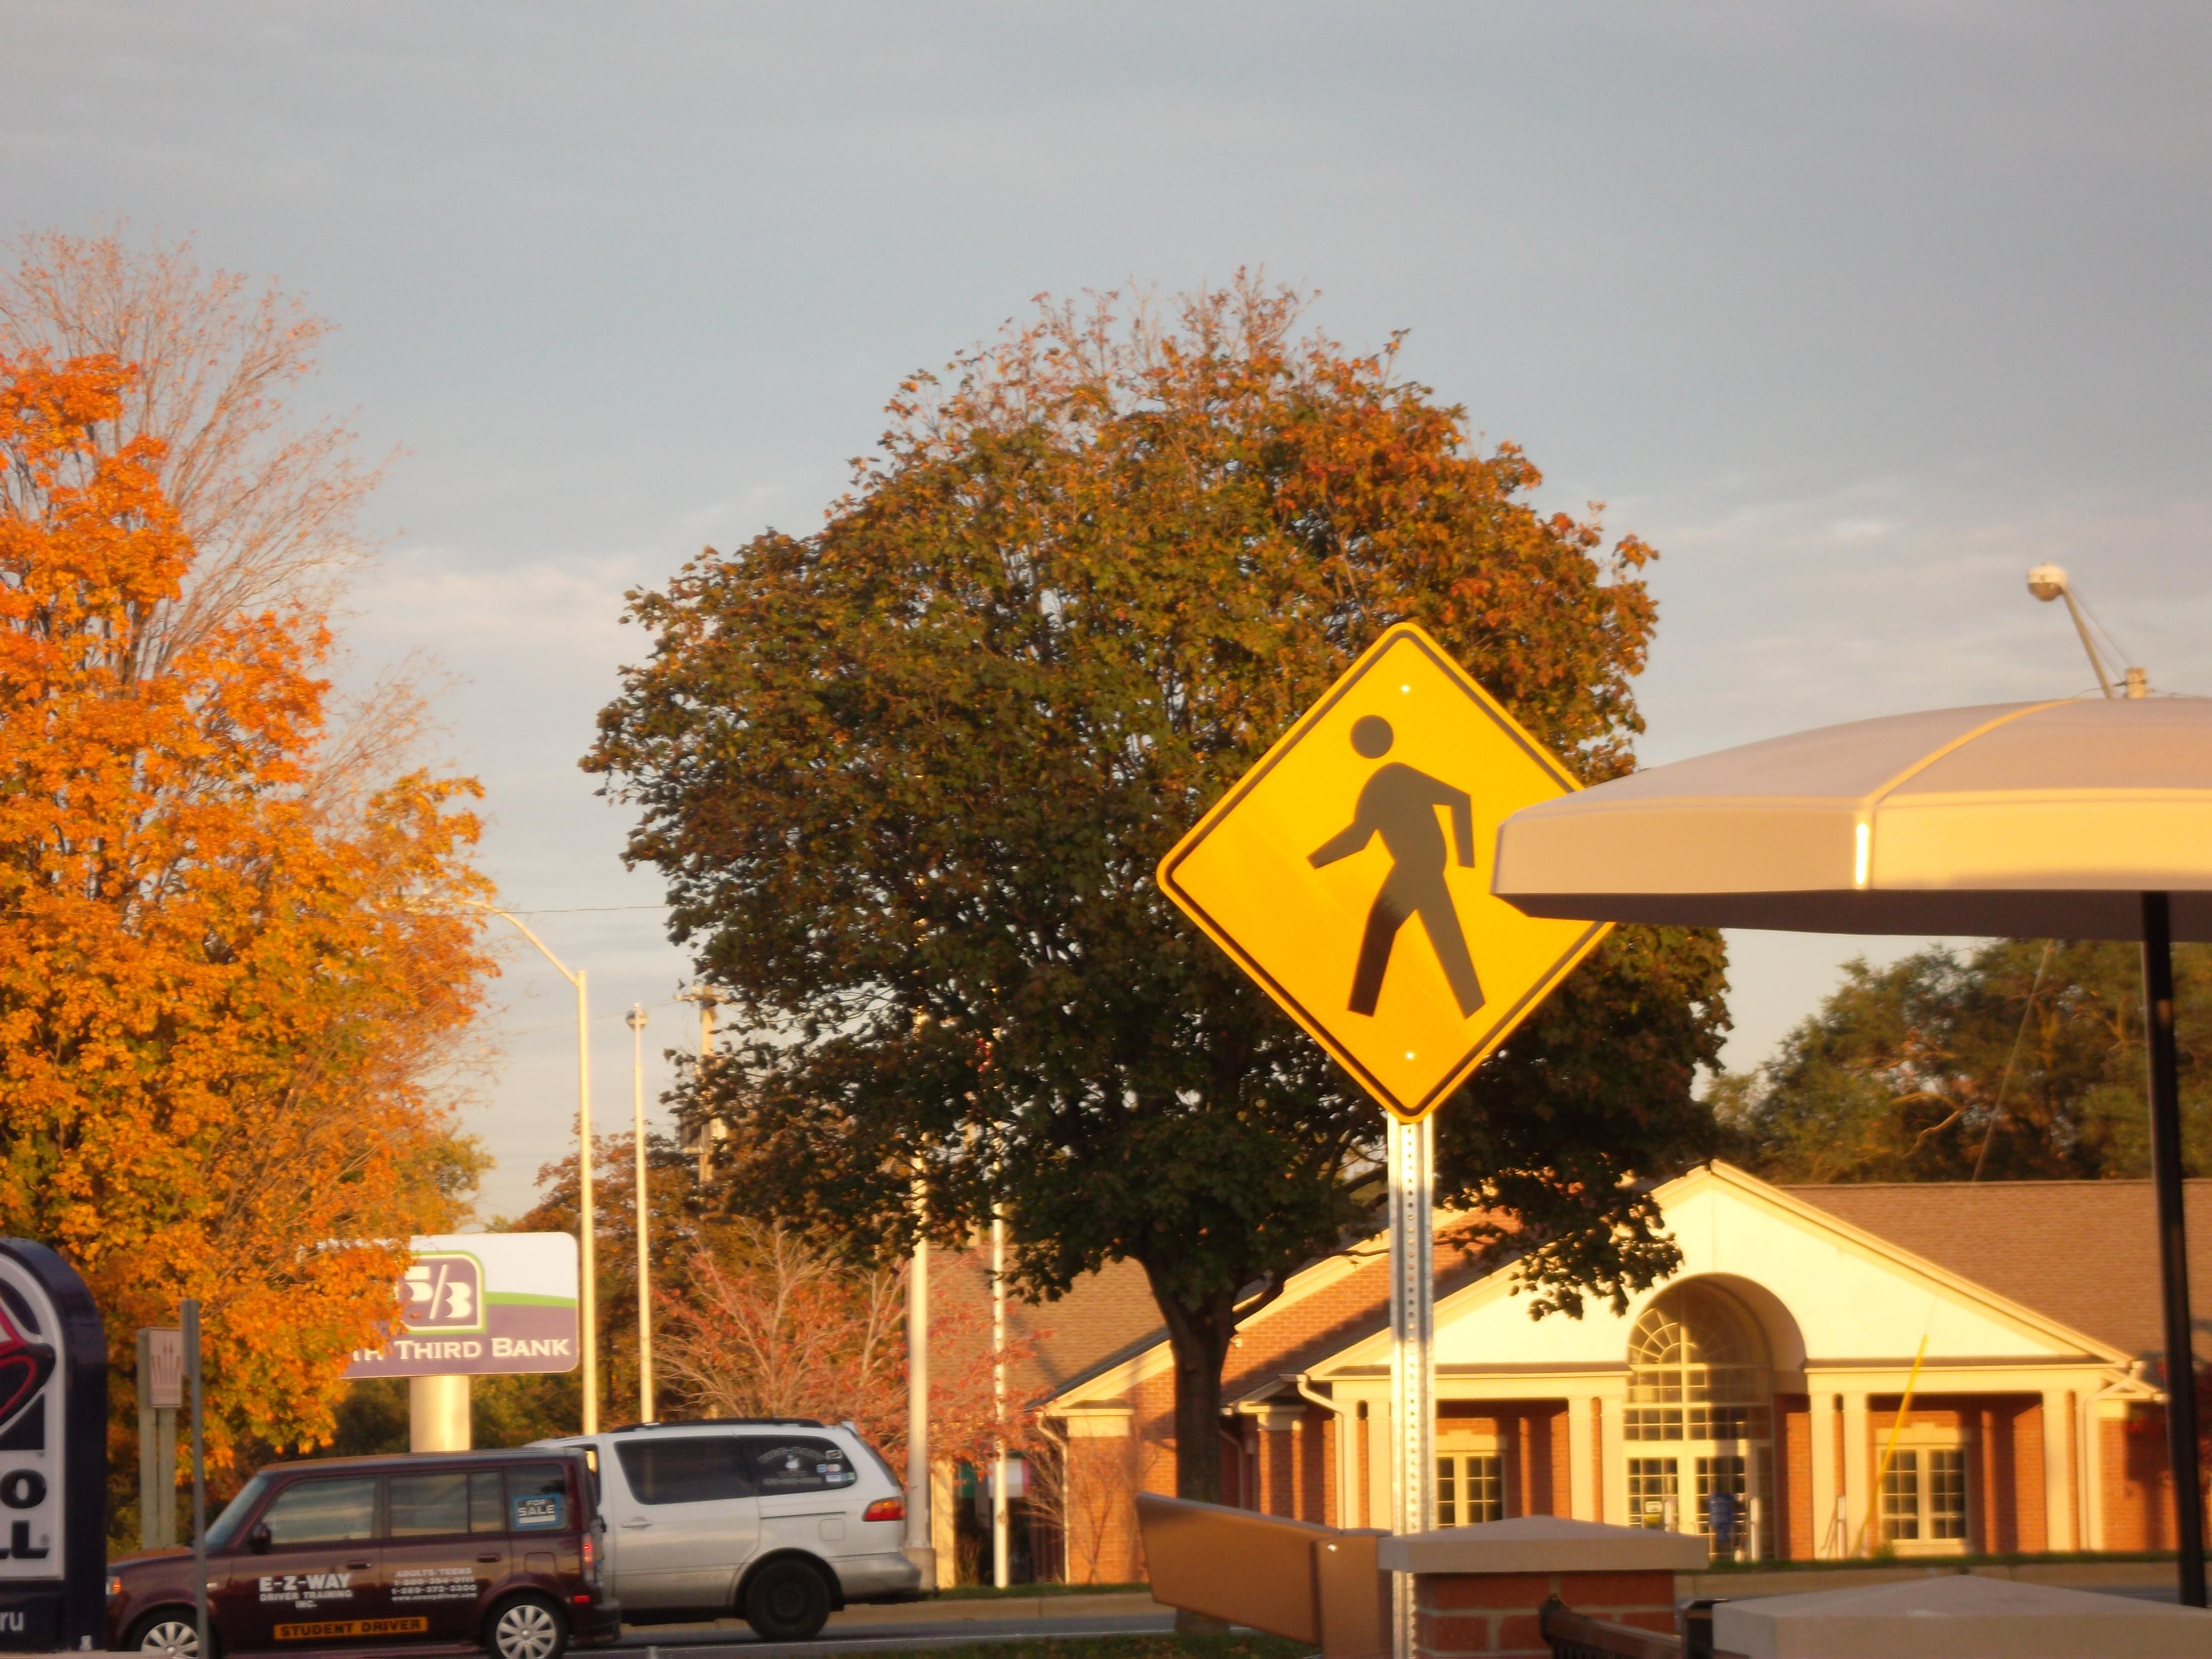warning: (1146, 612, 1646, 1126)
